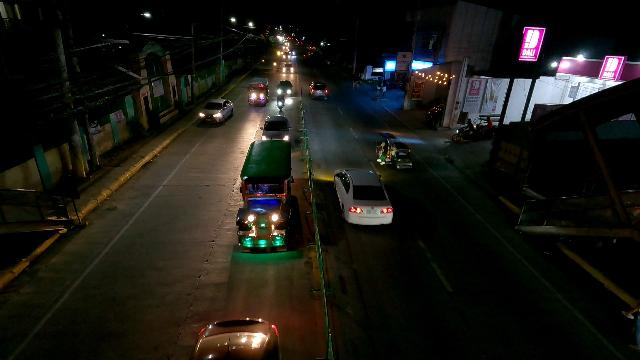car: (332, 167, 393, 230), (195, 97, 234, 125), (259, 115, 293, 143), (308, 81, 328, 100), (276, 79, 294, 96), (282, 62, 294, 73)
jeepney: (238, 141, 292, 252), (247, 77, 269, 106)
motorcycle: (274, 93, 288, 112)
